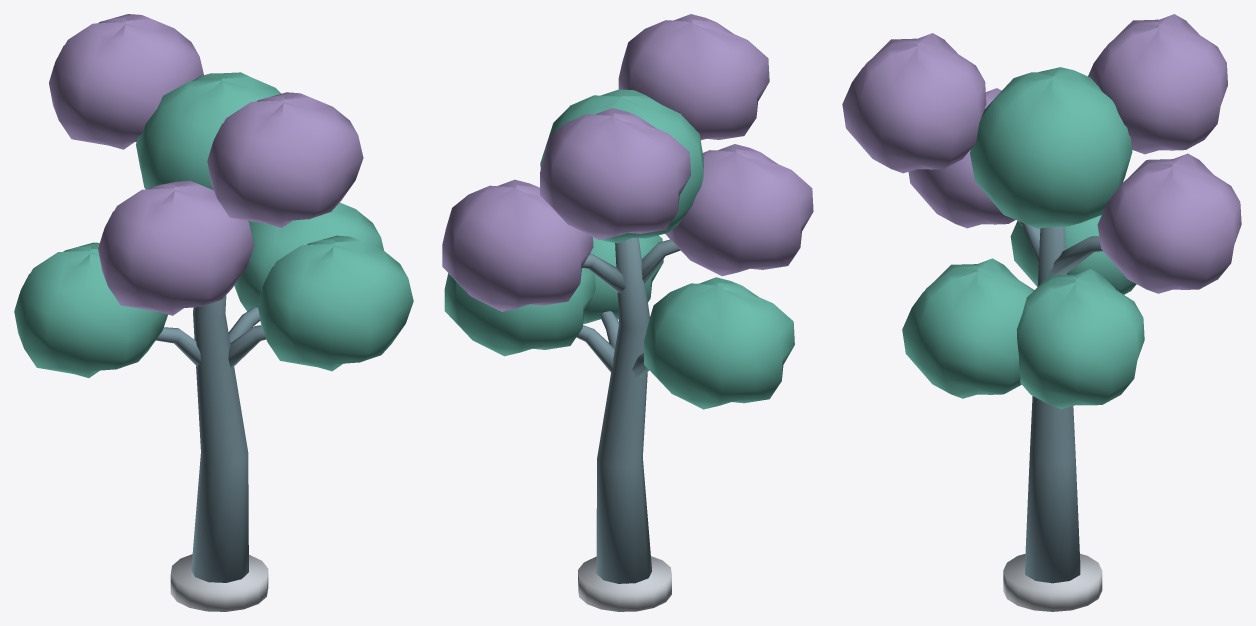
Rendered from can_amethyst_oak.glb.
3 renders of one model, left to right at view 1: azimuth 30°, elevation 25°; view 2: azimuth 150°, elevation 25°; view 3: azimuth 270°, elevation 25°, orthographic. The views are drawn at different scales.
Visible parts, largest first — view 1: CAN_amethyst_oak_crown_5, CAN_amethyst_oak_crown_6, CAN_amethyst_oak_crown_4, CAN_amethyst_oak_crown_2, CAN_amethyst_oak_crown_3, CAN_amethyst_oak_trunk, CAN_amethyst_oak_crown_center, CAN_amethyst_oak_crown_0, CAN_amethyst_oak_root_collar, CAN_amethyst_oak_branch_3, CAN_amethyst_oak_branch_6, CAN_amethyst_oak_branch_0; view 2: CAN_amethyst_oak_crown_2, CAN_amethyst_oak_crown_3, CAN_amethyst_oak_crown_1, CAN_amethyst_oak_trunk, CAN_amethyst_oak_crown_4, CAN_amethyst_oak_crown_5, CAN_amethyst_oak_crown_0, CAN_amethyst_oak_crown_center, CAN_amethyst_oak_root_collar, CAN_amethyst_oak_crown_6, CAN_amethyst_oak_branch_1, CAN_amethyst_oak_branch_0 (+1 smaller); view 3: CAN_amethyst_oak_crown_center, CAN_amethyst_oak_crown_1, CAN_amethyst_oak_crown_5, CAN_amethyst_oak_crown_0, CAN_amethyst_oak_crown_2, CAN_amethyst_oak_crown_6, CAN_amethyst_oak_trunk, CAN_amethyst_oak_crown_4, CAN_amethyst_oak_root_collar, CAN_amethyst_oak_crown_3, CAN_amethyst_oak_branch_1.
Boxes of the visible parts, x1=… form: CAN_amethyst_oak_crown_5: x1=207, y1=92, x2=363, y2=227; CAN_amethyst_oak_crown_6: x1=257, y1=235, x2=413, y2=371; CAN_amethyst_oak_crown_4: x1=98, y1=181, x2=254, y2=315; CAN_amethyst_oak_crown_2: x1=49, y1=14, x2=203, y2=149; CAN_amethyst_oak_crown_3: x1=14, y1=242, x2=167, y2=377; CAN_amethyst_oak_trunk: x1=191, y1=295, x2=248, y2=582; CAN_amethyst_oak_crown_center: x1=136, y1=72, x2=280, y2=222; CAN_amethyst_oak_crown_0: x1=234, y1=202, x2=383, y2=321; CAN_amethyst_oak_root_collar: x1=170, y1=554, x2=268, y2=611; CAN_amethyst_oak_branch_3: x1=156, y1=327, x2=201, y2=366; CAN_amethyst_oak_branch_6: x1=228, y1=325, x2=266, y2=367; CAN_amethyst_oak_branch_0: x1=228, y1=307, x2=260, y2=342; CAN_amethyst_oak_crown_2: x1=540, y1=108, x2=690, y2=240; CAN_amethyst_oak_crown_3: x1=644, y1=277, x2=794, y2=409; CAN_amethyst_oak_crown_1: x1=442, y1=179, x2=593, y2=311; CAN_amethyst_oak_trunk: x1=596, y1=238, x2=651, y2=583; CAN_amethyst_oak_crown_4: x1=665, y1=144, x2=813, y2=276; CAN_amethyst_oak_crown_5: x1=618, y1=14, x2=769, y2=140; CAN_amethyst_oak_crown_0: x1=444, y1=268, x2=595, y2=356; CAN_amethyst_oak_crown_center: x1=540, y1=89, x2=703, y2=243; CAN_amethyst_oak_root_collar: x1=578, y1=556, x2=671, y2=611; CAN_amethyst_oak_crown_6: x1=583, y1=235, x2=663, y2=324; CAN_amethyst_oak_branch_1: x1=582, y1=253, x2=625, y2=293; CAN_amethyst_oak_branch_0: x1=576, y1=325, x2=614, y2=371; CAN_amethyst_oak_crown_center: x1=970, y1=67, x2=1132, y2=228; CAN_amethyst_oak_crown_1: x1=1097, y1=153, x2=1241, y2=293; CAN_amethyst_oak_crown_5: x1=842, y1=33, x2=986, y2=173; CAN_amethyst_oak_crown_0: x1=1016, y1=269, x2=1144, y2=409; CAN_amethyst_oak_crown_2: x1=1088, y1=14, x2=1227, y2=154; CAN_amethyst_oak_crown_6: x1=902, y1=258, x2=1034, y2=398; CAN_amethyst_oak_trunk: x1=1025, y1=226, x2=1080, y2=583; CAN_amethyst_oak_crown_4: x1=908, y1=88, x2=1015, y2=228; CAN_amethyst_oak_root_collar: x1=1003, y1=553, x2=1102, y2=611; CAN_amethyst_oak_crown_3: x1=1010, y1=215, x2=1136, y2=294; CAN_amethyst_oak_branch_1: x1=1047, y1=236, x2=1102, y2=276.
Bounding box in the file's own units: 2.72 × 4.04 × 2.66.
